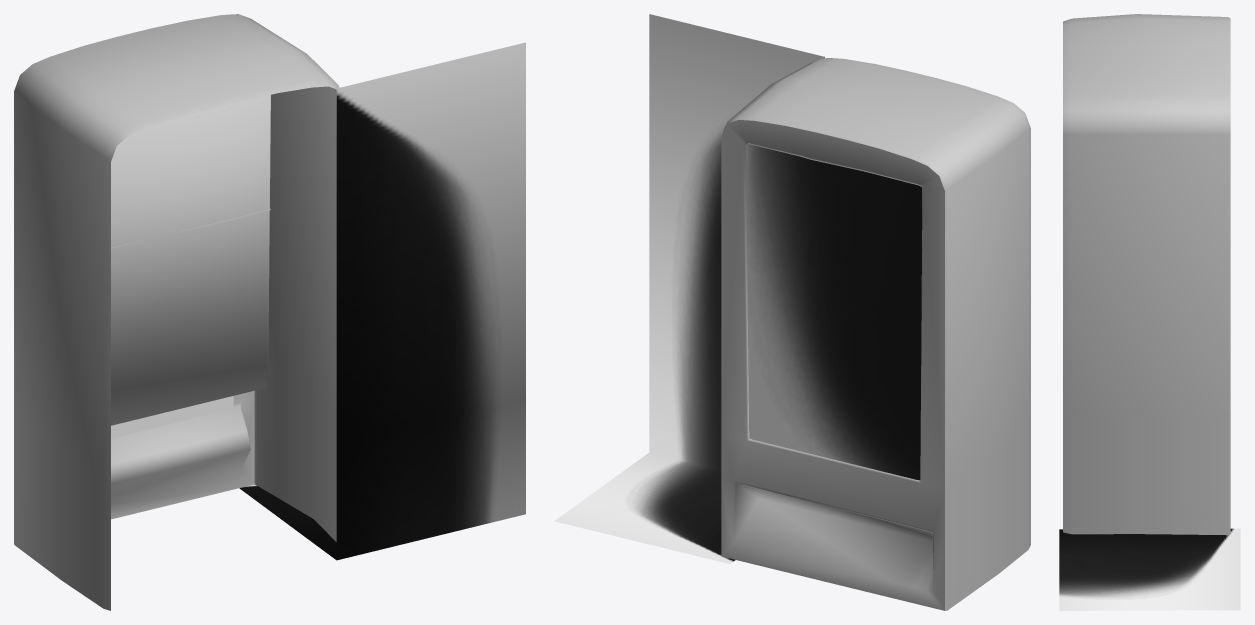
File: Fridge1_1(rusty).fbx
3 renders of one model, left to right at view 1: azimuth 30°, elevation 25°; view 2: azimuth 150°, elevation 25°; view 3: azimuth 270°, elevation 25°, orthographic. The views are drawn at different scales.
Parts seen in each view (by area): view 1: Fridge1, Fridge1_shadow; view 2: Fridge1, Fridge1_shadow; view 3: Fridge1, Fridge1_shadow.
Part boxes in pixels (bbox=[...]): Fridge1: bbox=[14, 14, 339, 610]; Fridge1_shadow: bbox=[111, 42, 525, 560]; Fridge1: bbox=[721, 58, 1030, 610]; Fridge1_shadow: bbox=[554, 14, 922, 563]; Fridge1: bbox=[1063, 14, 1230, 535]; Fridge1_shadow: bbox=[1059, 528, 1240, 610].
Bounding box in the file's own units: 1.41 × 1.55 × 0.5946.
